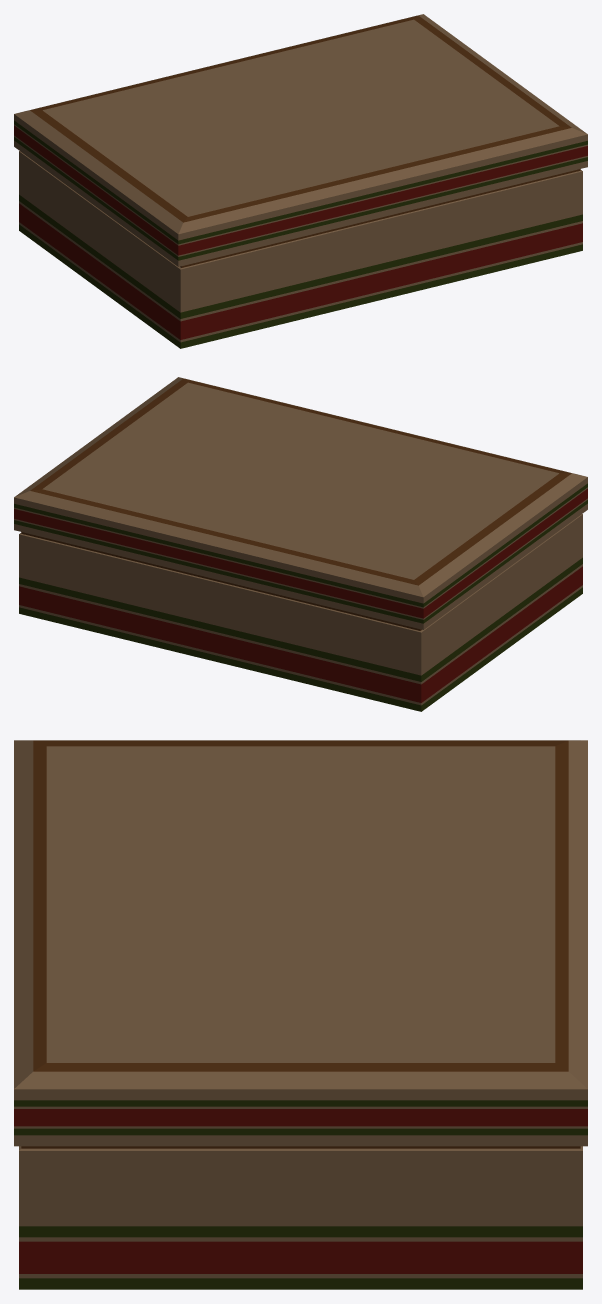
File: card_box.fbx
The picture shows the model from 3 angles, top to bottom: view 1: azimuth 30°, elevation 25°; view 2: azimuth 150°, elevation 25°; view 3: azimuth 270°, elevation 25°; orthographic projection. The views are drawn at different scales.
Visible parts, largest first — view 1: Cube.009; view 2: Cube.009; view 3: Cube.009.
Part boxes in pixels (x1,y1,x2,y2): Cube.009: (14,14,587,348); Cube.009: (14,377,587,711); Cube.009: (14,740,587,1289).
Size of the model in its own units: 19.38 by 5.53 by 13.48.
